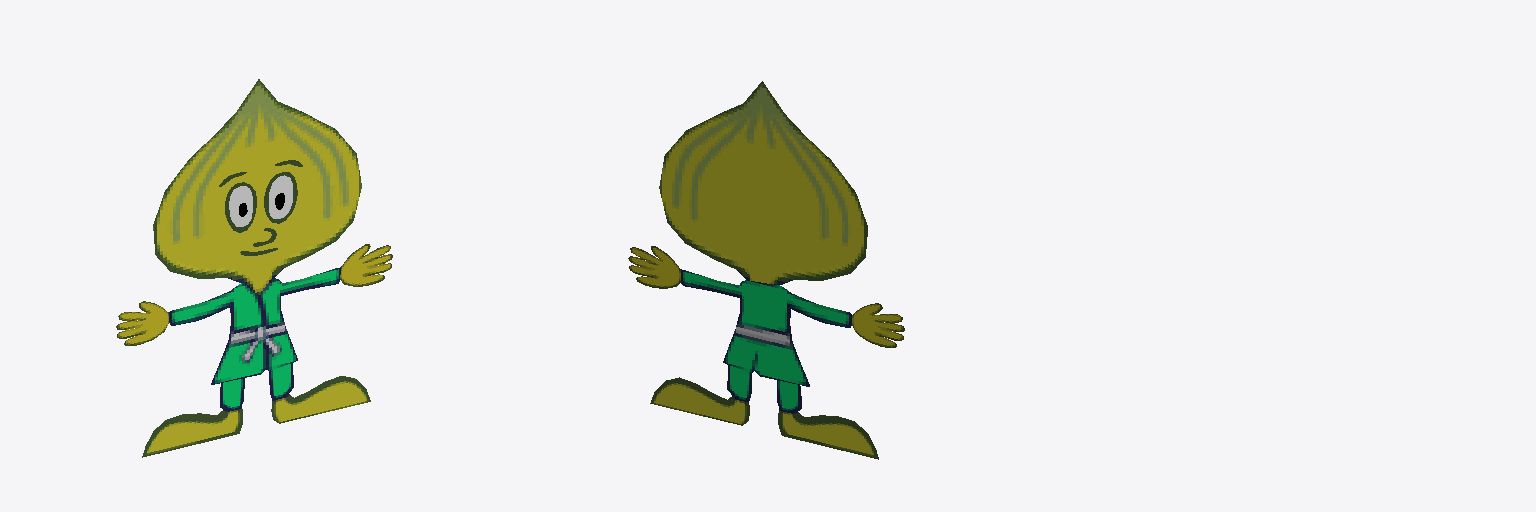
3 views of the same model, side by side, from view 1: azimuth 30°, elevation 25°; view 2: azimuth 150°, elevation 25°; view 3: azimuth 270°, elevation 25° (orthographic).
Visible parts, largest first — view 1: head, torso, feet, hand, rdmobj00; view 2: head, feet, shirtback, hand, torso; view 3: none.
Part boxes in pixels (left/top/right/bottom): head: left=153, top=79, right=361, bottom=278; torso: left=169, top=267, right=340, bottom=384; feet: left=142, top=363, right=370, bottom=457; hand: left=116, top=244, right=392, bottom=345; rdmobj00: left=219, top=160, right=302, bottom=255; head: left=659, top=81, right=867, bottom=280; feet: left=650, top=365, right=878, bottom=459; shirtback: left=723, top=280, right=809, bottom=386; hand: left=628, top=246, right=904, bottom=347; torso: left=681, top=269, right=851, bottom=374.
Bounding box in the file's own units: 7.53 × 9.11 × 0.1332.
Materials: 6 (6 with a texture image).